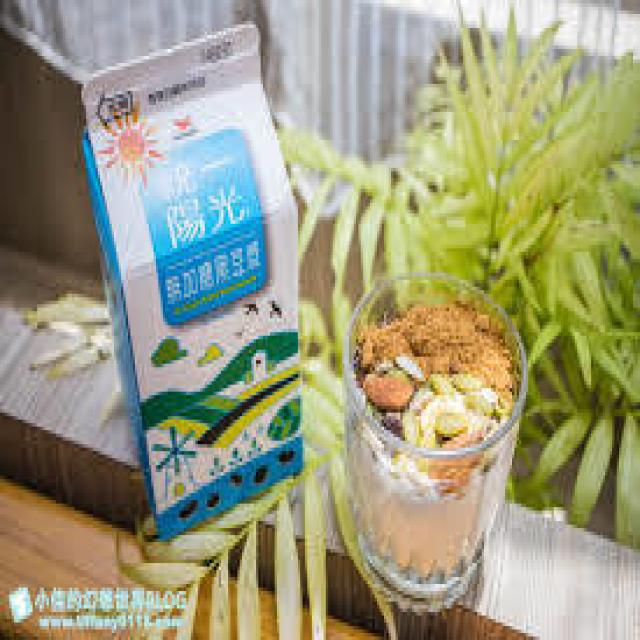TongYi_UnsweetenedBlackSoyMilk: (77, 15, 306, 522)
